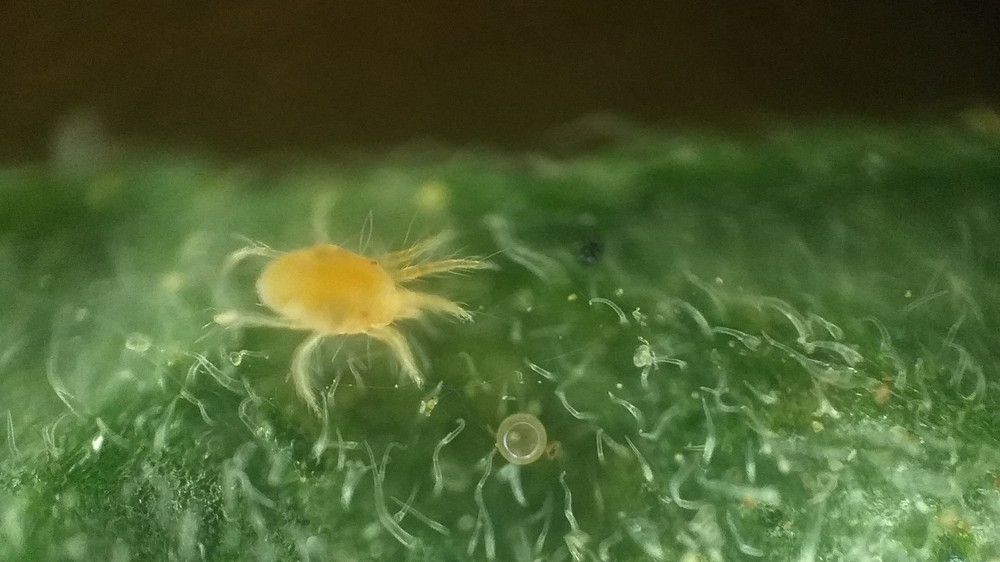Aracnido Rojo: (185, 192, 490, 416)
